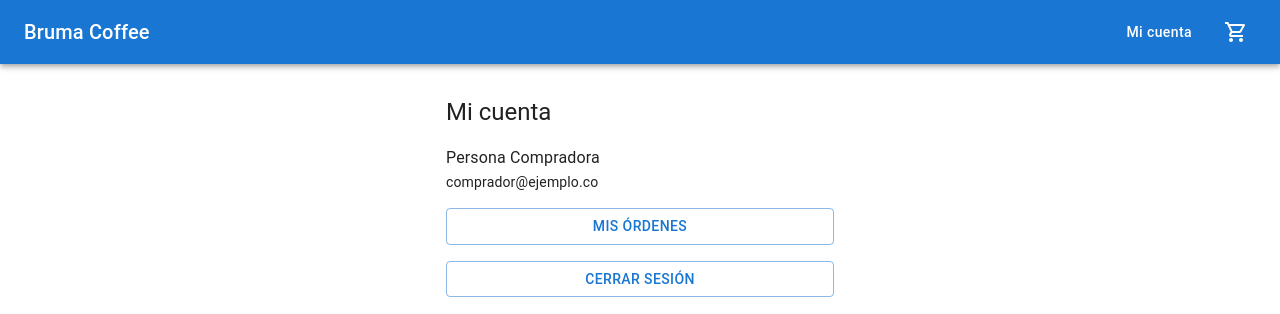
Test: cada ruta se carga cuando se pide › la cuenta con sesion, y sale de ahi con un clic
This screenshot has width=1280, height=314.
Click the link "Mis órdenes" at (640, 226), box left=446, top=208, right=834, bottom=244
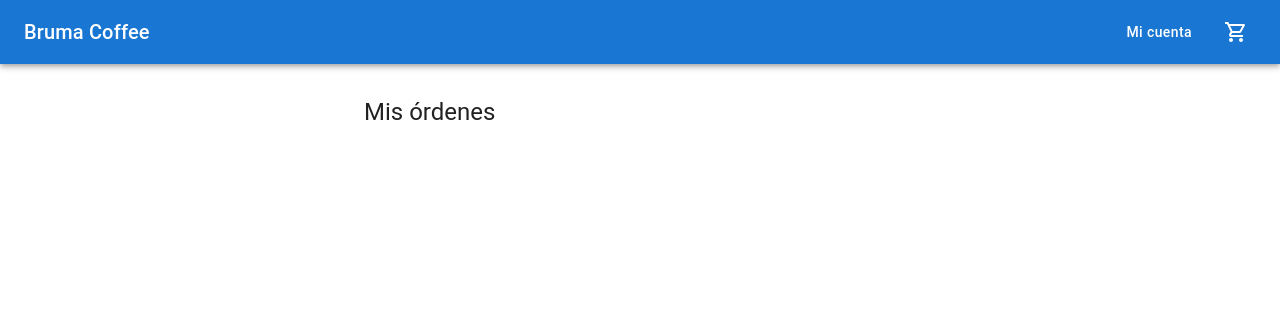
Expected: the heading "Mis órdenes" is shown, left=364, top=98, right=495, bottom=126
